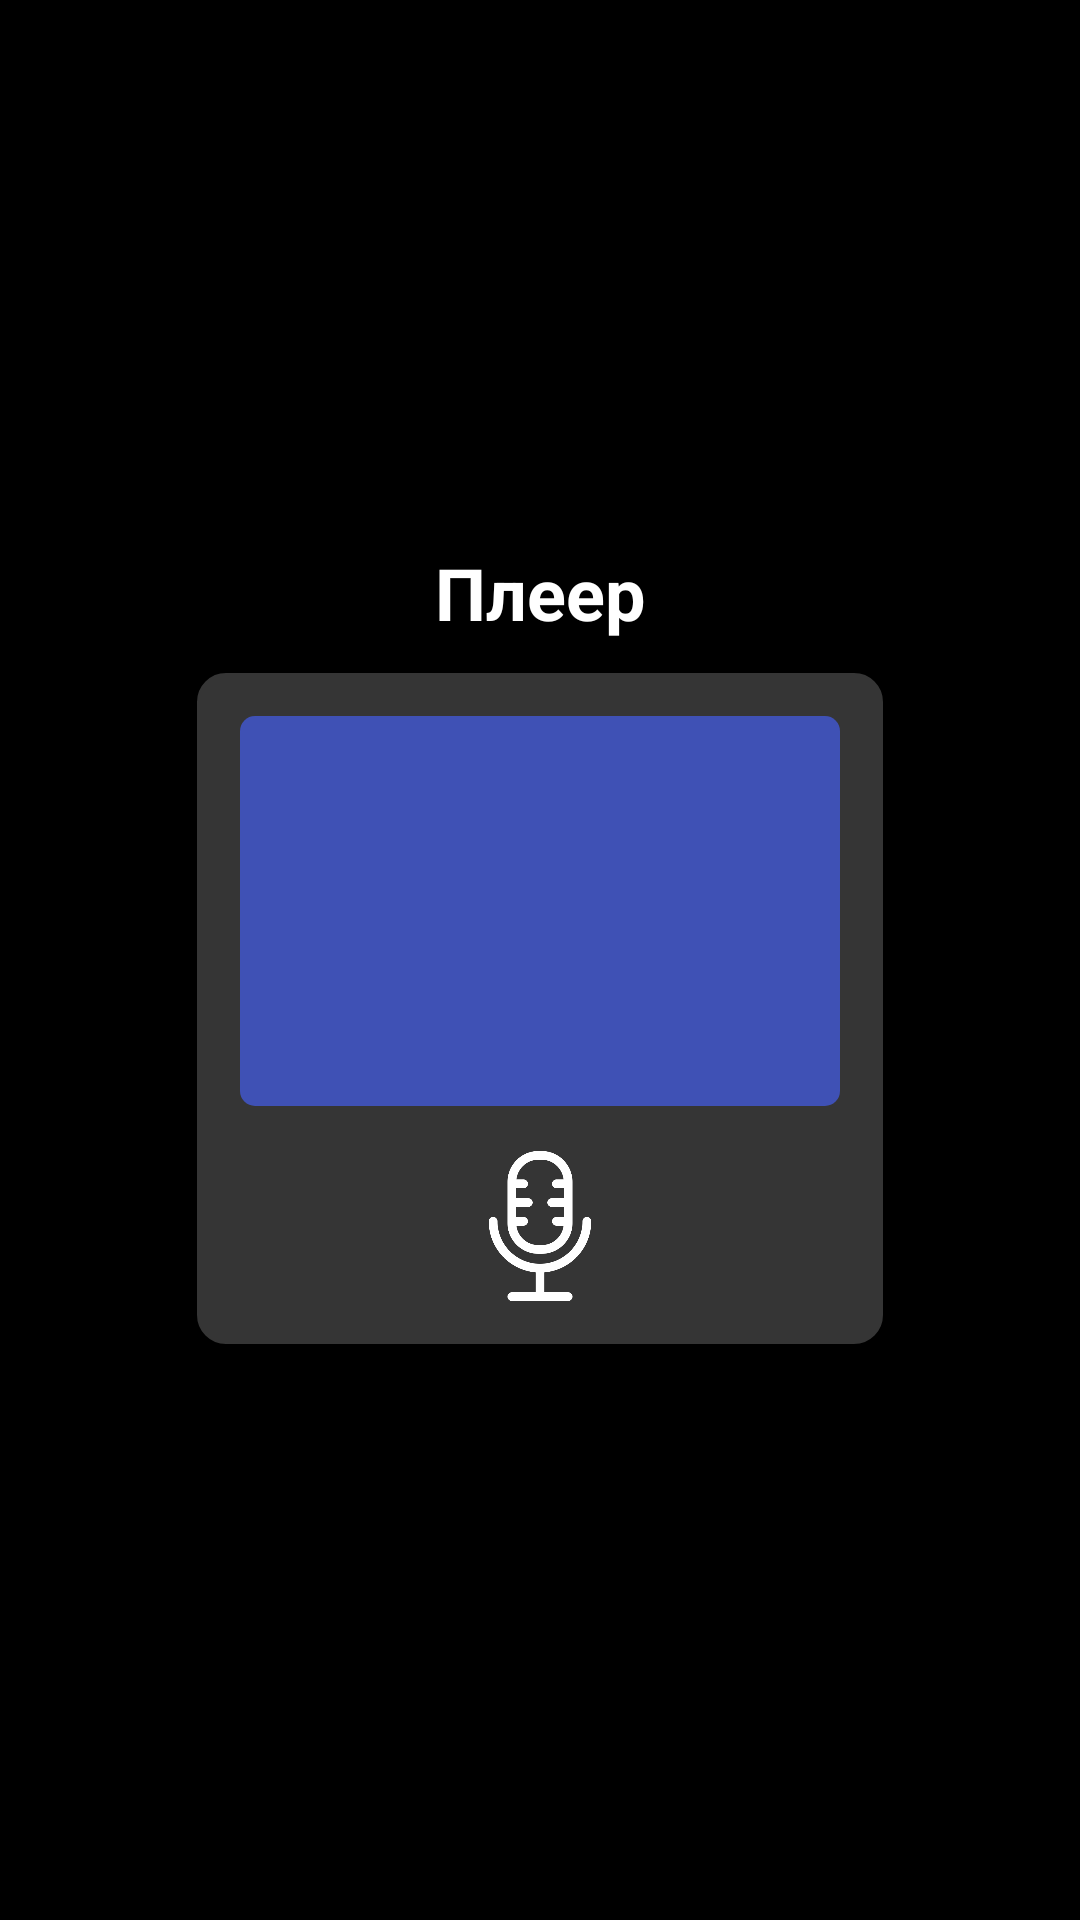

Named icons in this screenshot (1080px x 1920px) and their bounding boxes, box=[x1, y1, x2, y2]:
microphone: box=[489, 1151, 591, 1301]
